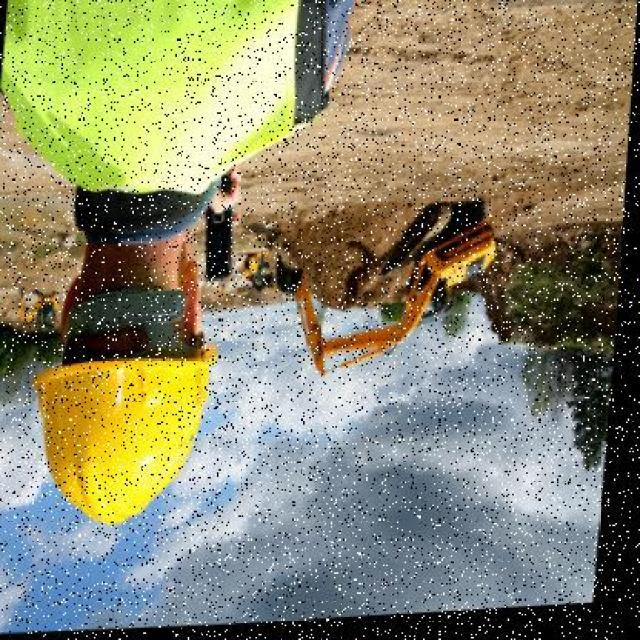helmet: (18, 349, 226, 531)
vest: (0, 0, 347, 218)
